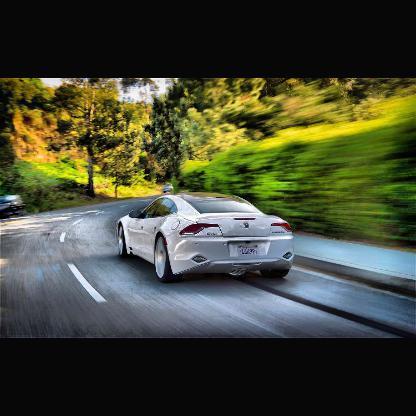Fisker Karma Sedan 2012: (116, 190, 296, 285)
